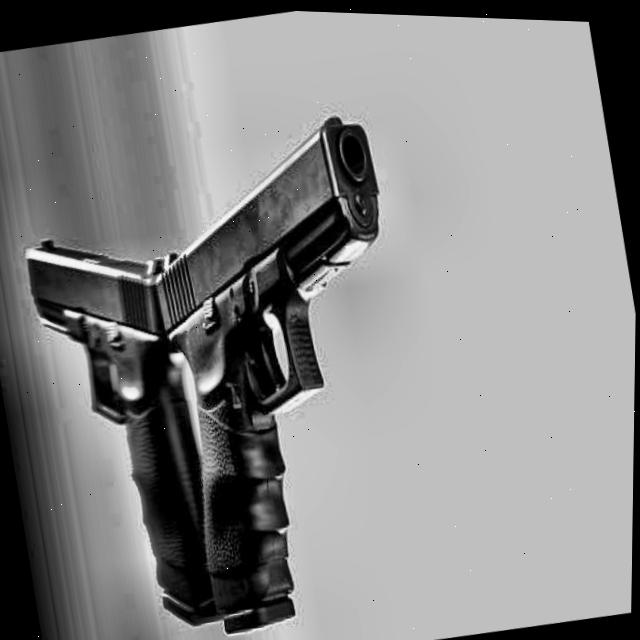pistol: (154, 109, 403, 640)
